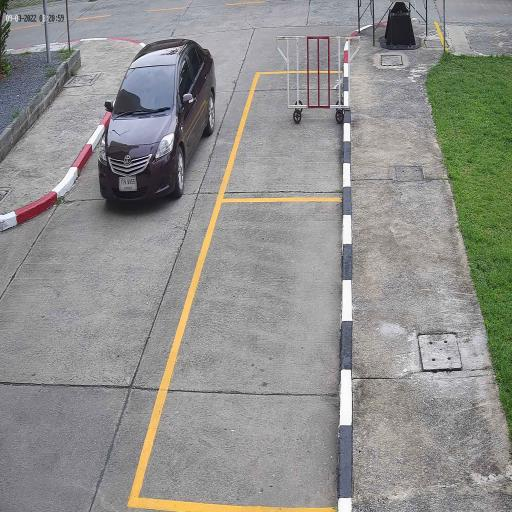car: (98, 37, 218, 204)
